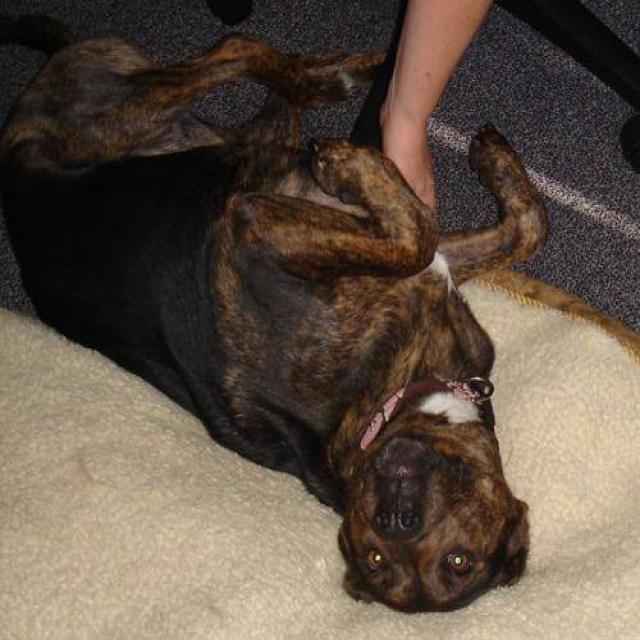dog: (0, 8, 550, 613)
